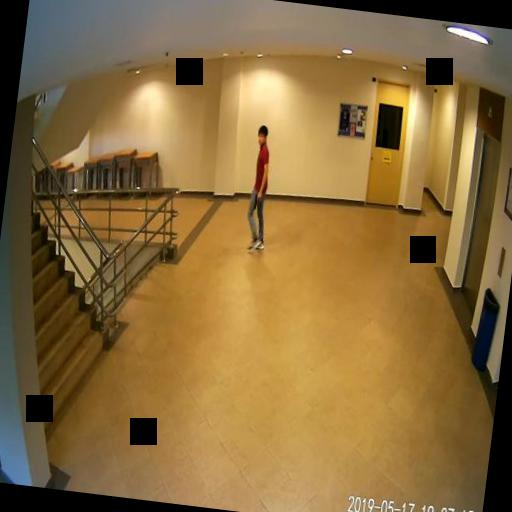Handgun: (252, 191, 260, 209)
